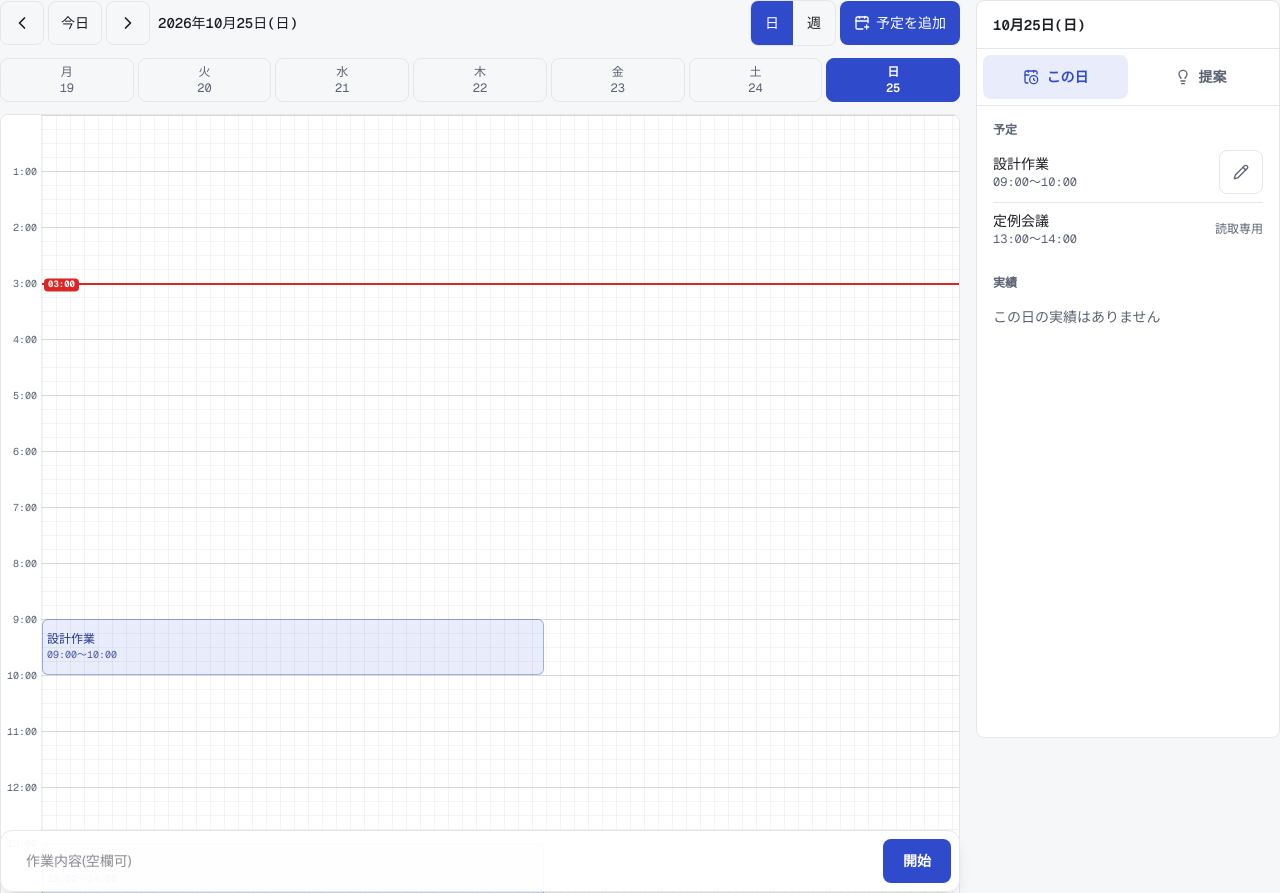
Test: 予定の保存・削除後の反映待ちフィードバック(S7〜S10) › S9: 保存が失敗したときは refresh されず、グリッドも aria-busy にならない
The image size is (1280, 893).
Click the button "予定を追加". click: (900, 23)
box: [840,1,960,45]
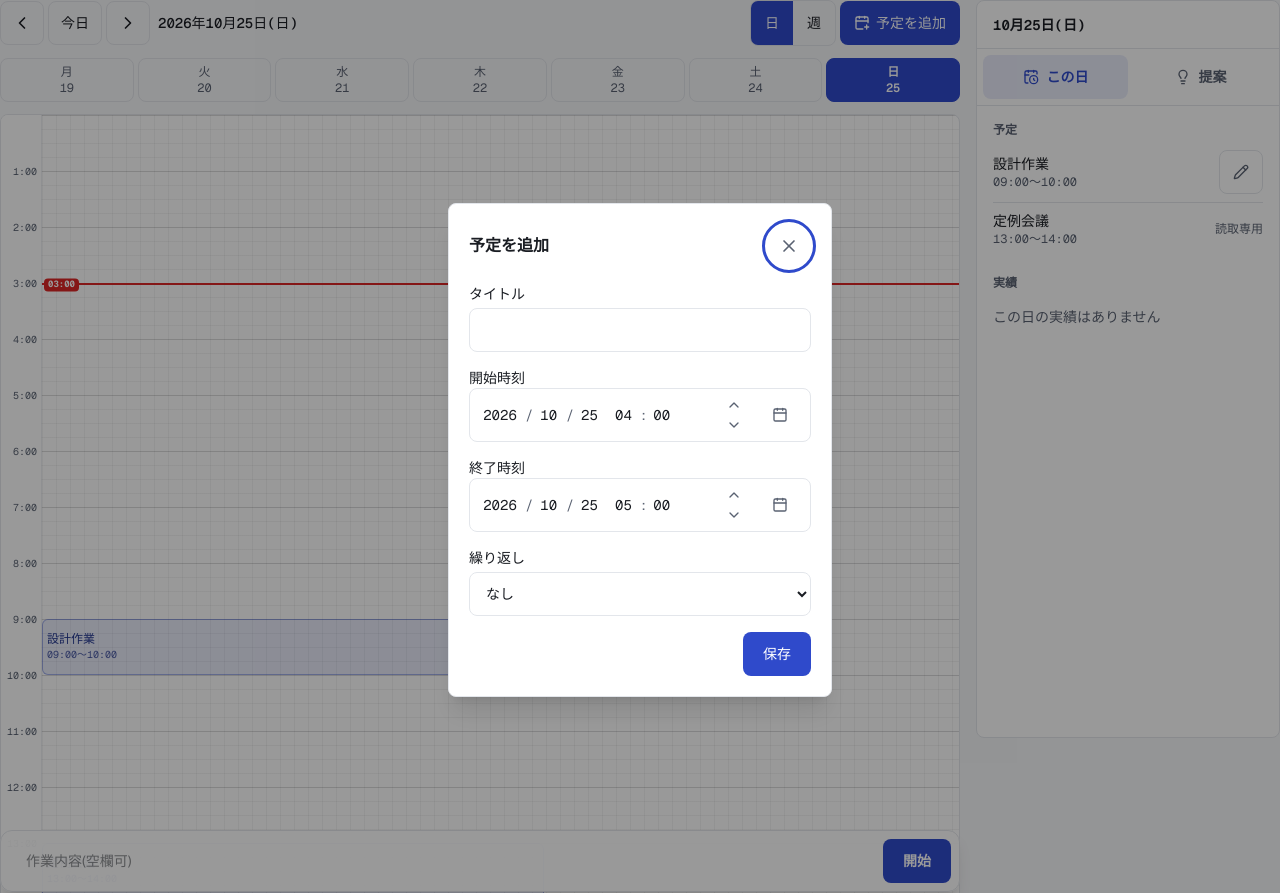
Check: the dialog is shown, box [448,203,832,697]
Type "レビュー対応" into the field labelled "タイトル". click: (640, 330)
box: [469,308,811,352]
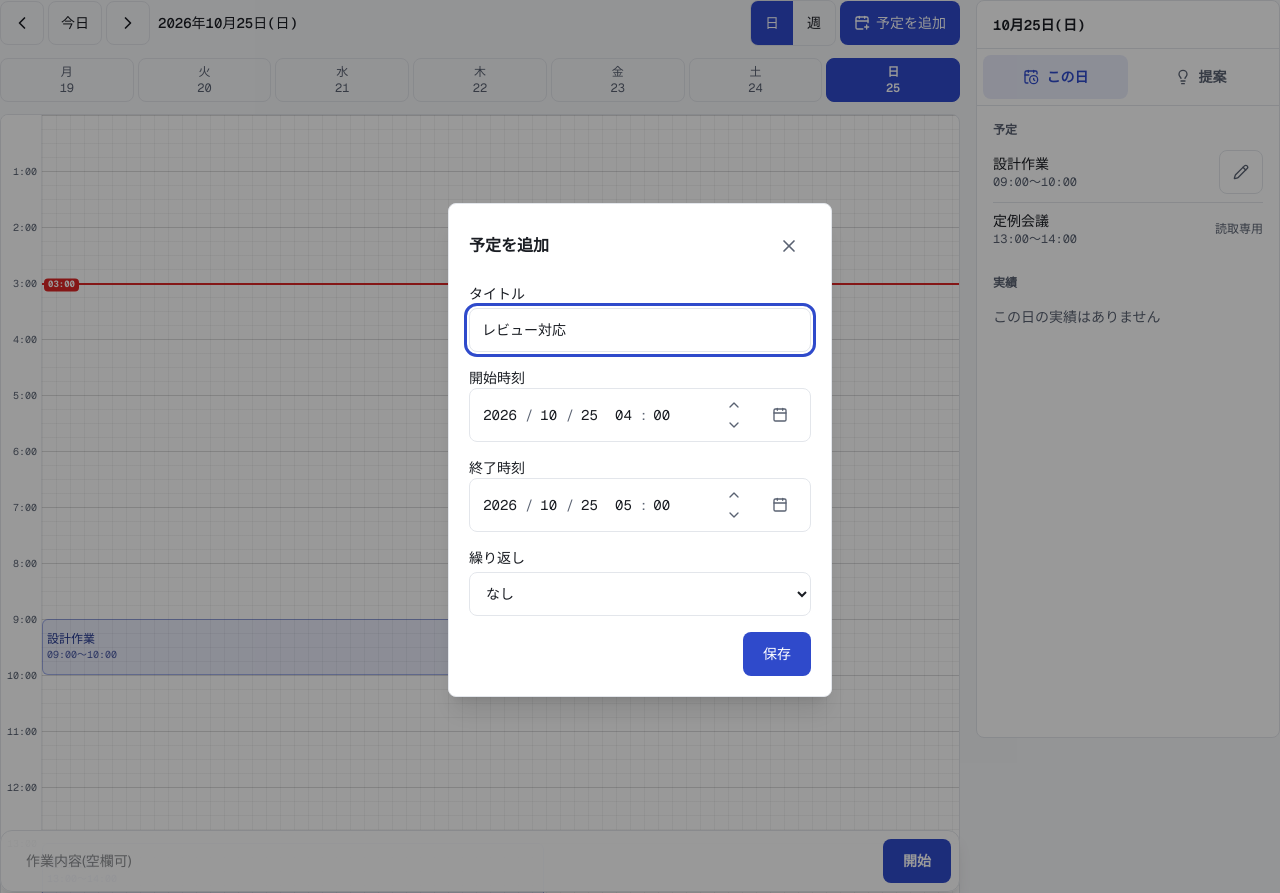
Click the button "保存". click: (777, 654)
box: [743,632,811,676]
(page scrolled)
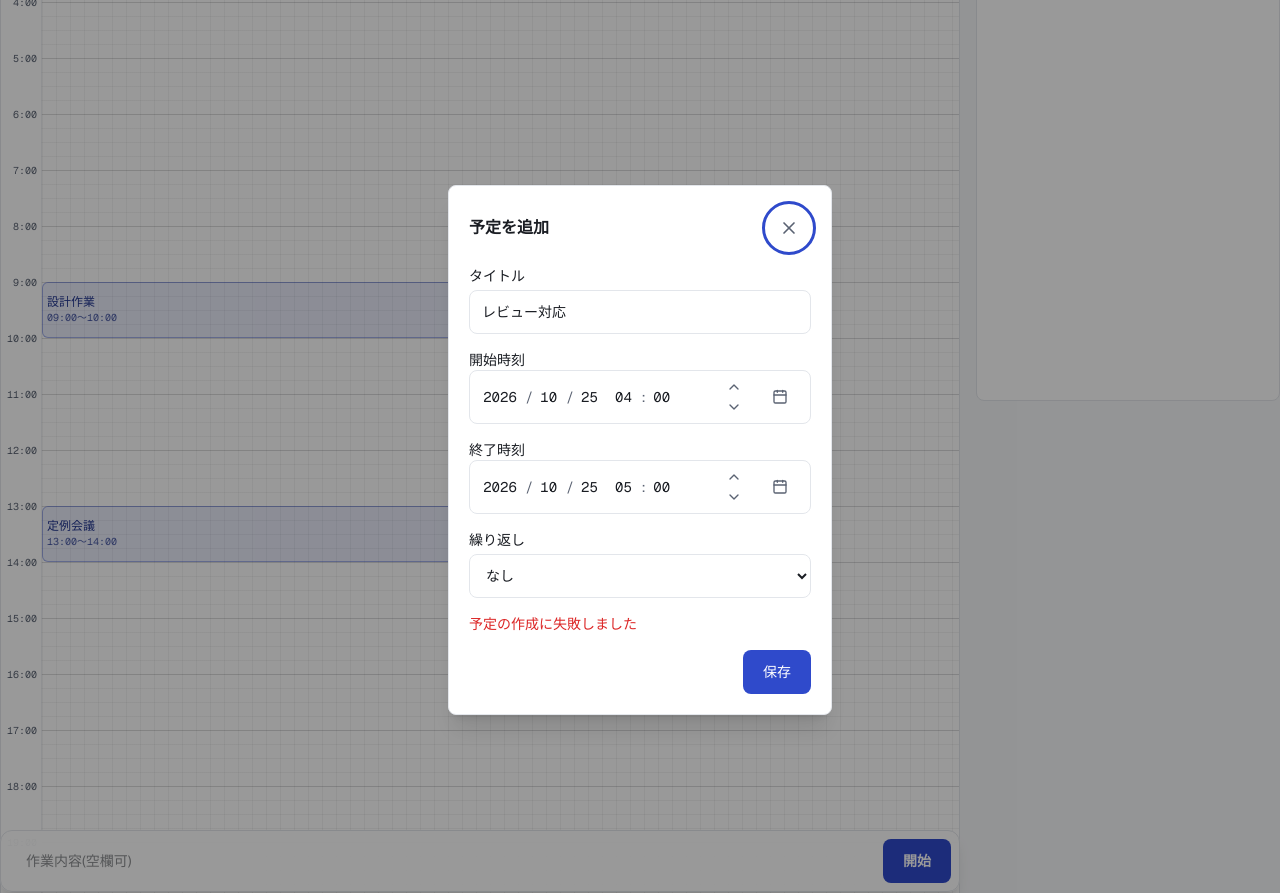
Check: the text "予定の作成に失敗しました" is shown, box [469,615,637,633]
